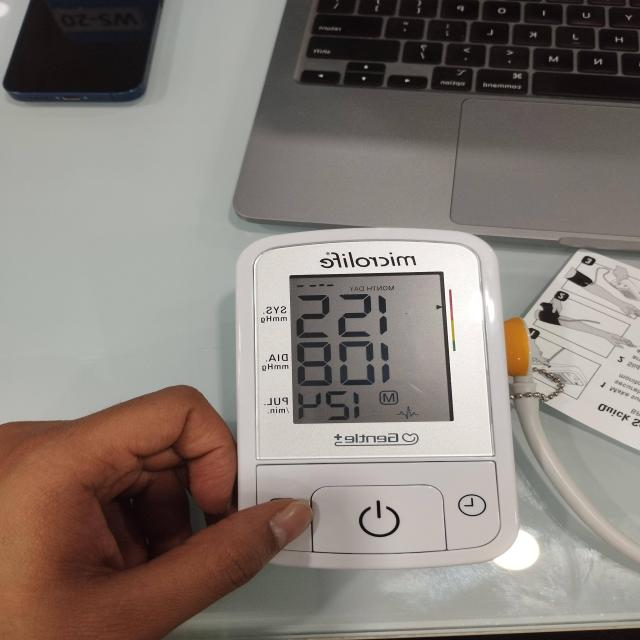bp: (234, 230, 520, 570)
